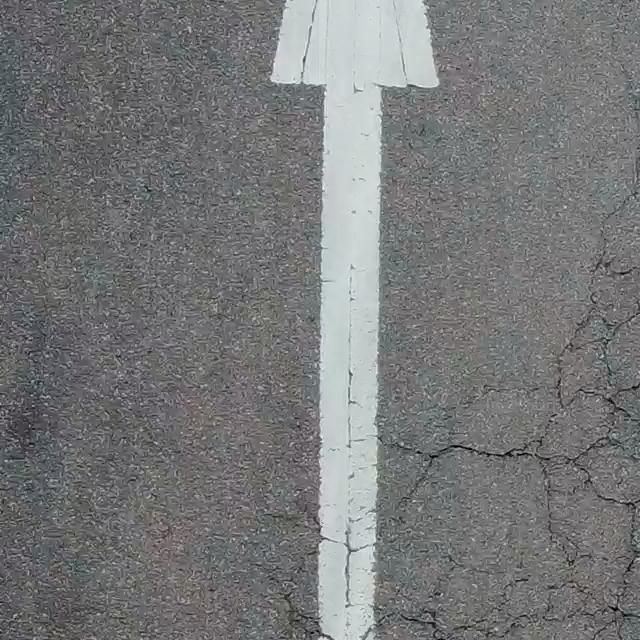PIEL DE COCODRILO: (272, 150, 639, 639)
